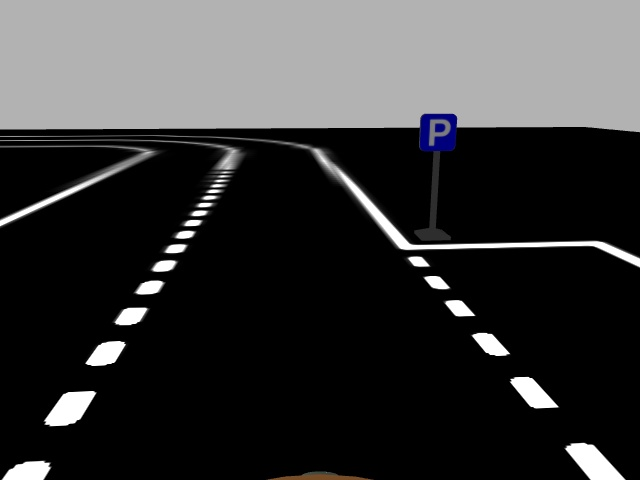parking: (419, 112, 457, 151)
